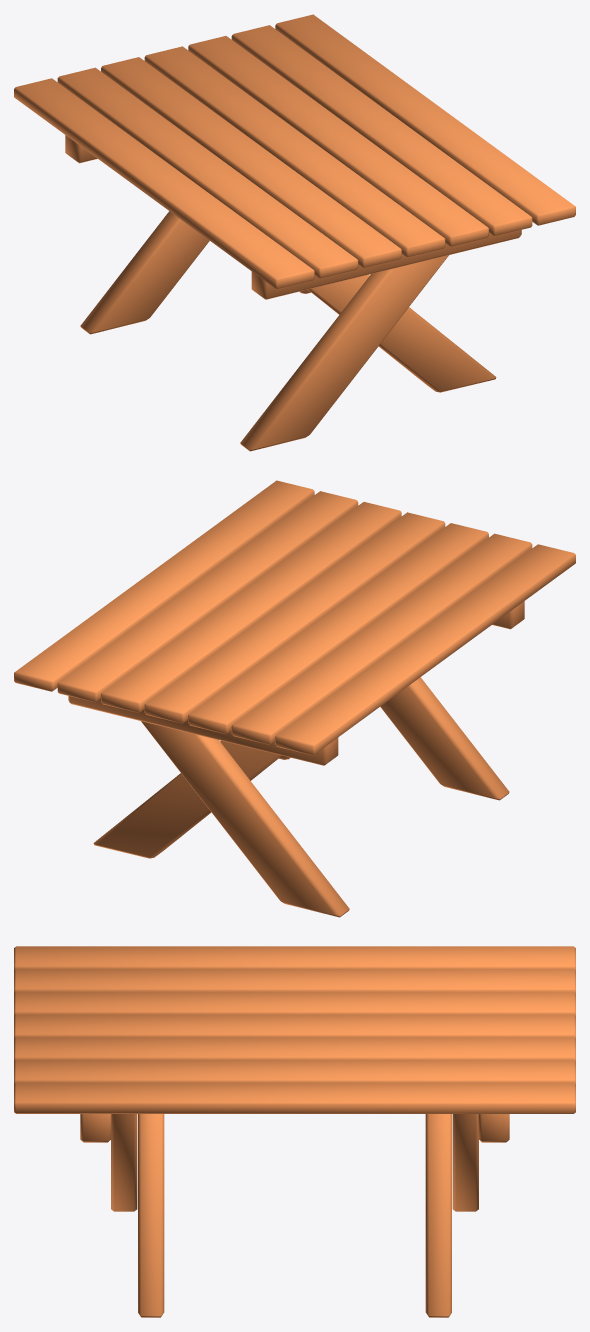
File: Table.fbx
3 views of the same model, one above another, from view 1: azimuth 30°, elevation 25°; view 2: azimuth 150°, elevation 25°; view 3: azimuth 270°, elevation 25° (orthographic). The views are drawn at different scales.
Visible parts, largest first — view 1: Table; view 2: Table; view 3: Table.
Part boxes in pixels (x1,y1,x2,y2): Table: [14, 14, 575, 451]; Table: [14, 480, 575, 917]; Table: [14, 946, 575, 1317].
Size of the model in its own units: 110 by 74.28 by 167.
